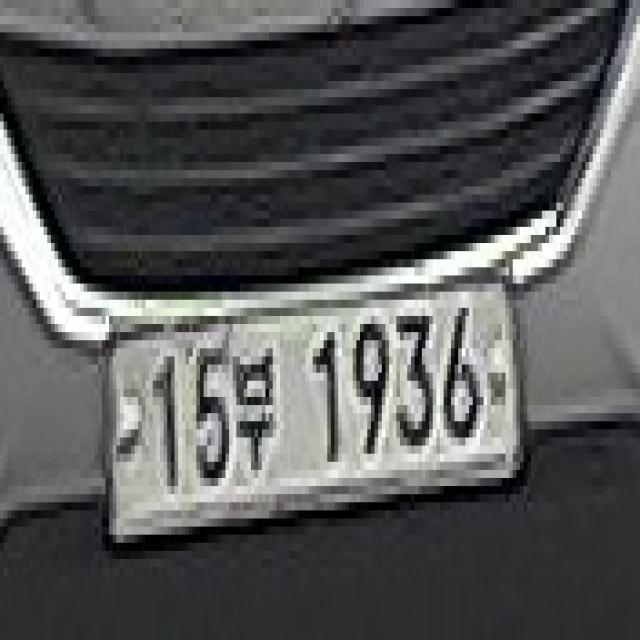1: (309, 308, 346, 486), (149, 348, 186, 502)
3: (393, 300, 440, 454)
5: (189, 332, 233, 502)
6: (437, 292, 488, 454)
9: (349, 300, 393, 470)
bu: (229, 332, 287, 486)
license_plate: (87, 251, 531, 575)
